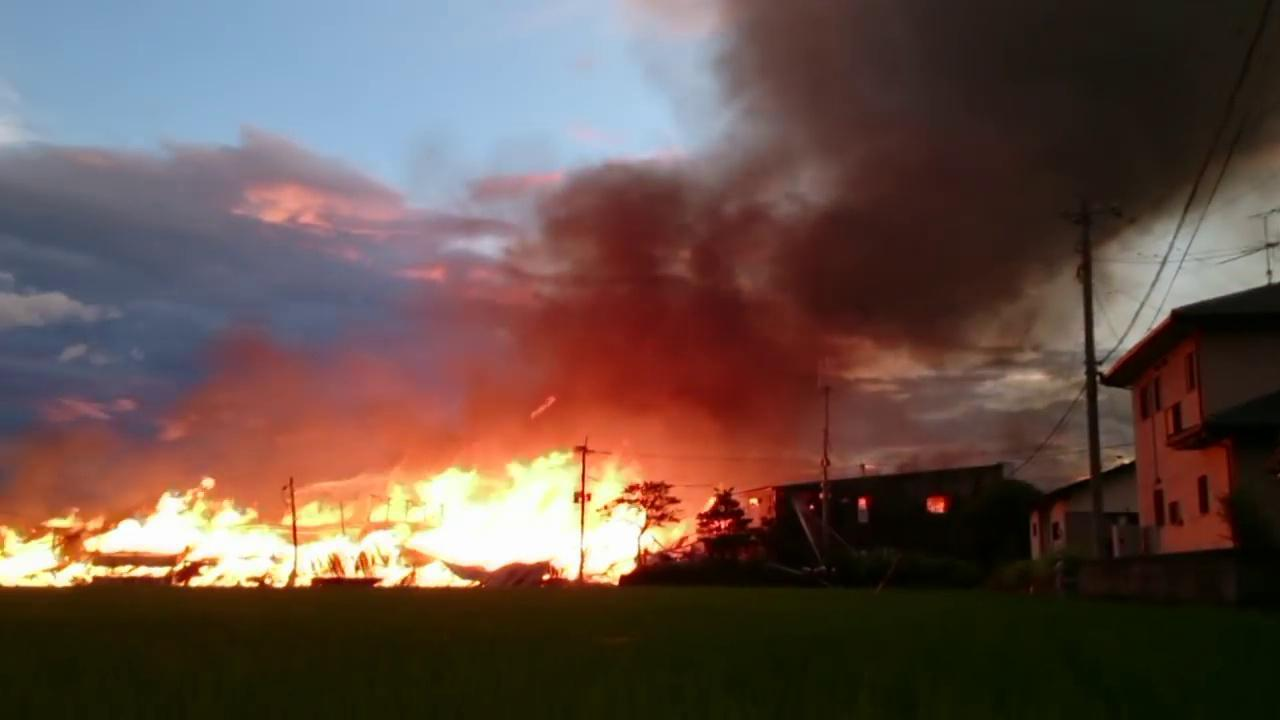Fire: (5, 448, 718, 590), (929, 498, 946, 516), (748, 494, 760, 510)
